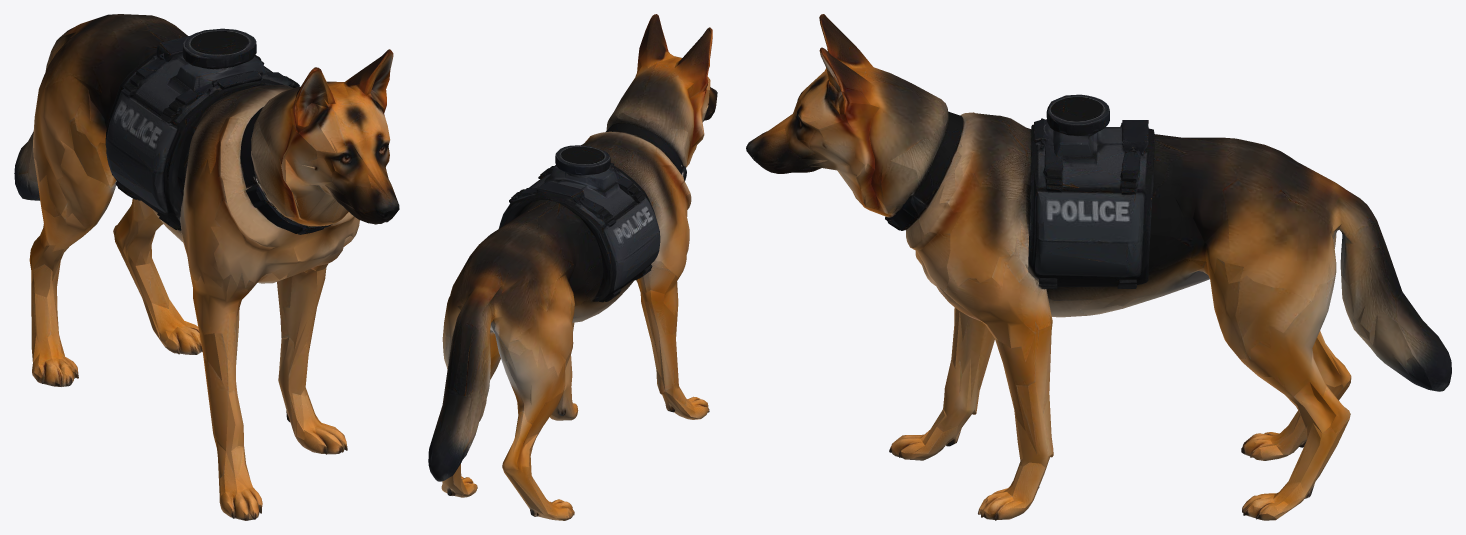
The model's file is chien.glb.
The picture shows the model from 3 angles, left to right: view 1: azimuth 30°, elevation 25°; view 2: azimuth 150°, elevation 25°; view 3: azimuth 270°, elevation 25°; orthographic projection. The views are drawn at different scales.
Bounding box in the file's own units: 0.505 × 1.34 × 1.9.
1 material, 1 textured.
